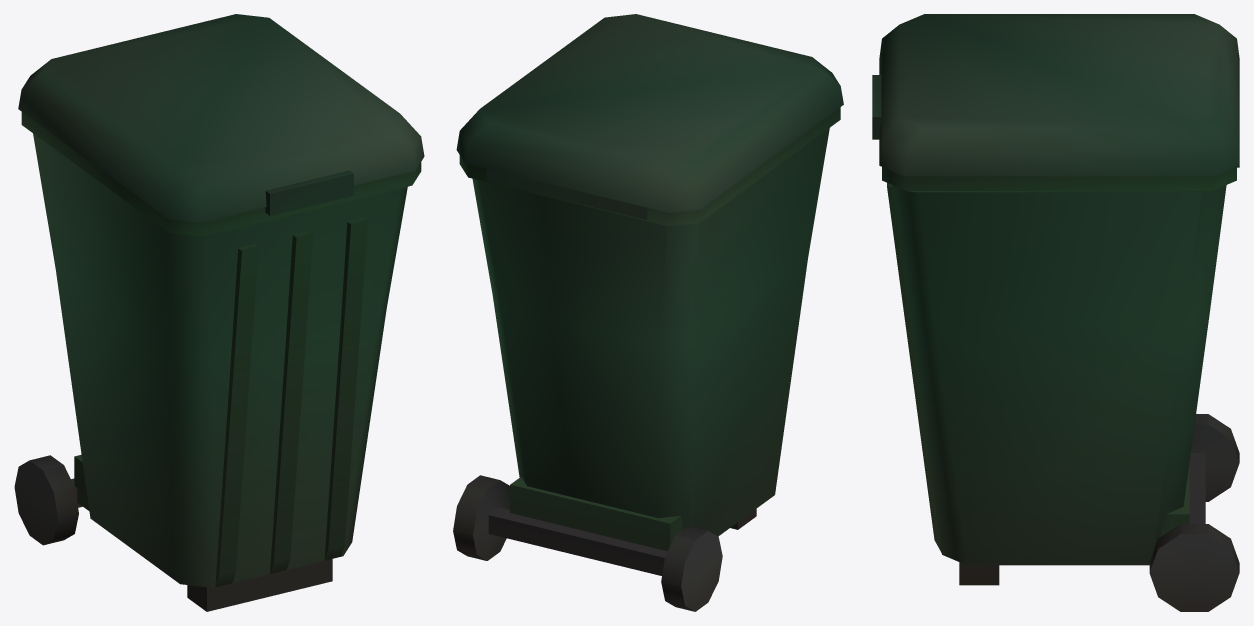
The model's file is trash_bin.glb.
3 renders of one model, left to right at view 1: azimuth 30°, elevation 25°; view 2: azimuth 150°, elevation 25°; view 3: azimuth 270°, elevation 25°, orthographic. The views are drawn at different scales.
Parts seen in each view (by area): view 1: TrashBin; view 2: TrashBin; view 3: TrashBin.
Boxes of the visible parts, x1=… form: TrashBin: x1=14, y1=14, x2=424, y2=611; TrashBin: x1=453, y1=14, x2=843, y2=611; TrashBin: x1=872, y1=14, x2=1239, y2=611.
Size of the model in its own units: 0.61 by 1.07 by 0.734.
